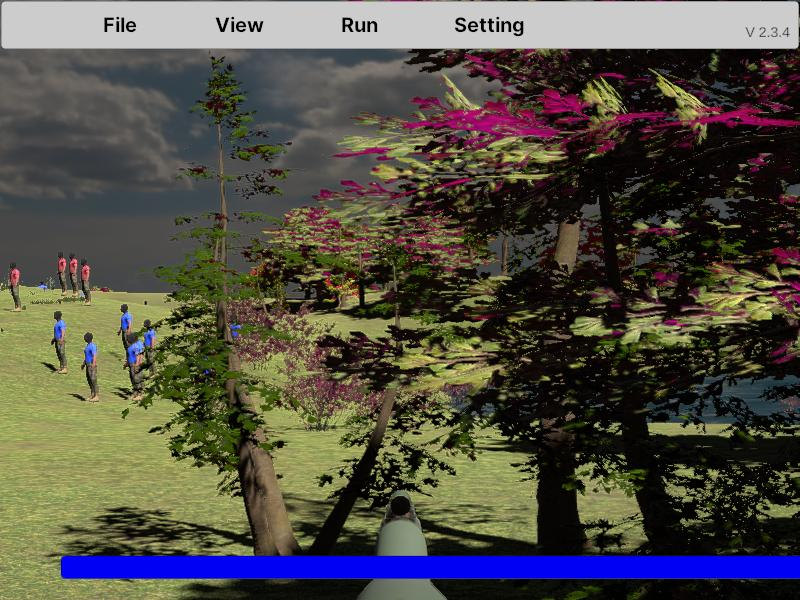Human: (123, 332, 144, 403), (81, 333, 99, 403), (141, 319, 157, 395), (51, 311, 69, 375), (117, 303, 132, 368)
